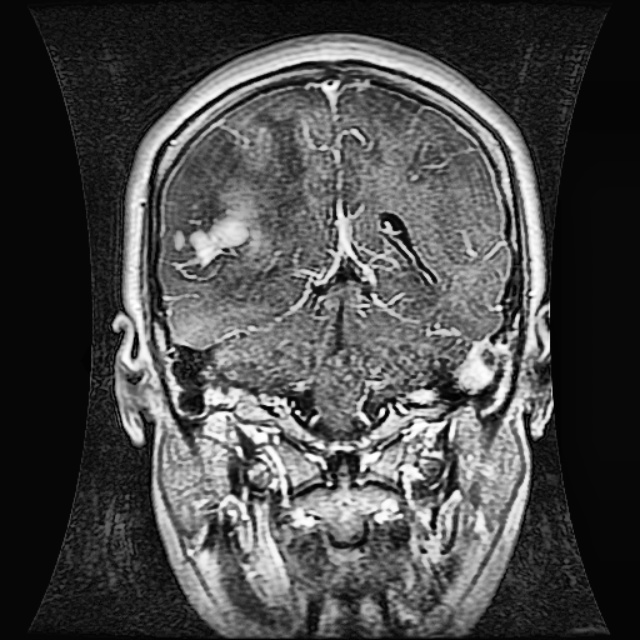Meningioma: (169, 202, 258, 280)
